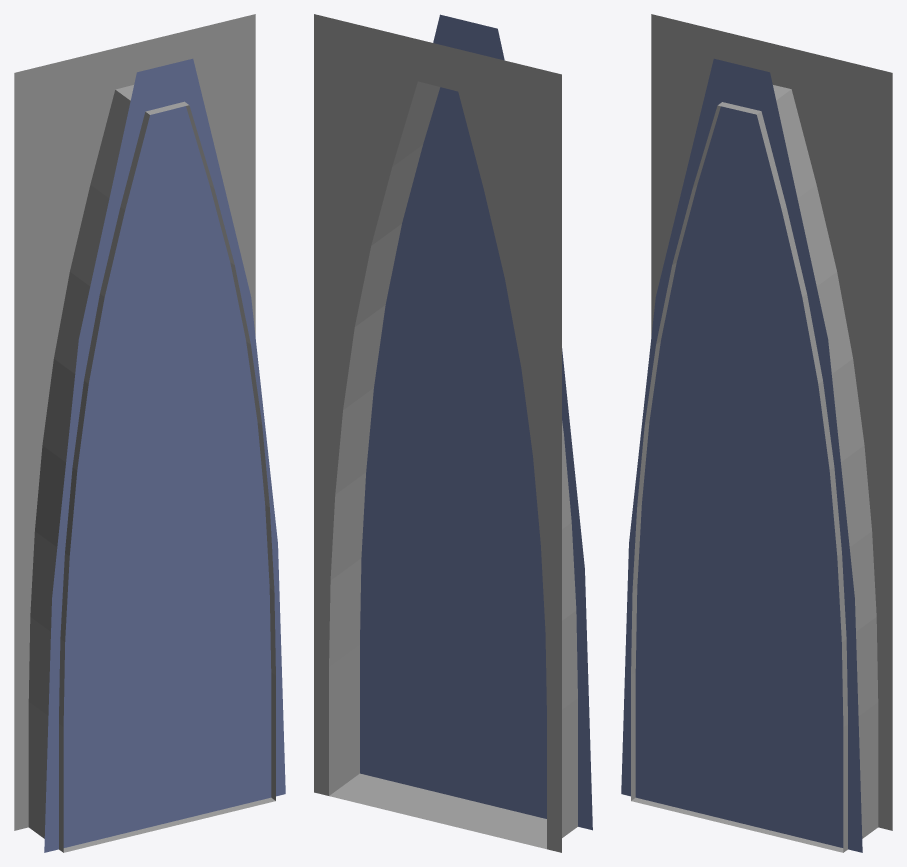
File: WallBottom-Basic.fbx
The picture shows the model from 3 angles, left to right: view 1: azimuth 30°, elevation 25°; view 2: azimuth 150°, elevation 25°; view 3: azimuth 330°, elevation 25°; orthographic projection. The views are drawn at different scales.
Parts seen in each view (by area): view 1: WallBottom; view 2: WallBottom; view 3: WallBottom.
Part boxes in pixels (left/top/right/bottom): WallBottom: left=14, top=14, right=285, bottom=852; WallBottom: left=314, top=14, right=592, bottom=852; WallBottom: left=621, top=14, right=892, bottom=852.
Size of the model in its own units: 1 by 3 by 0.25.
